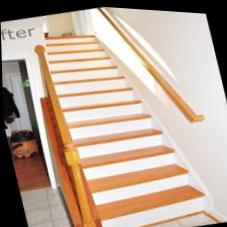Bench: (83, 151, 222, 227)
